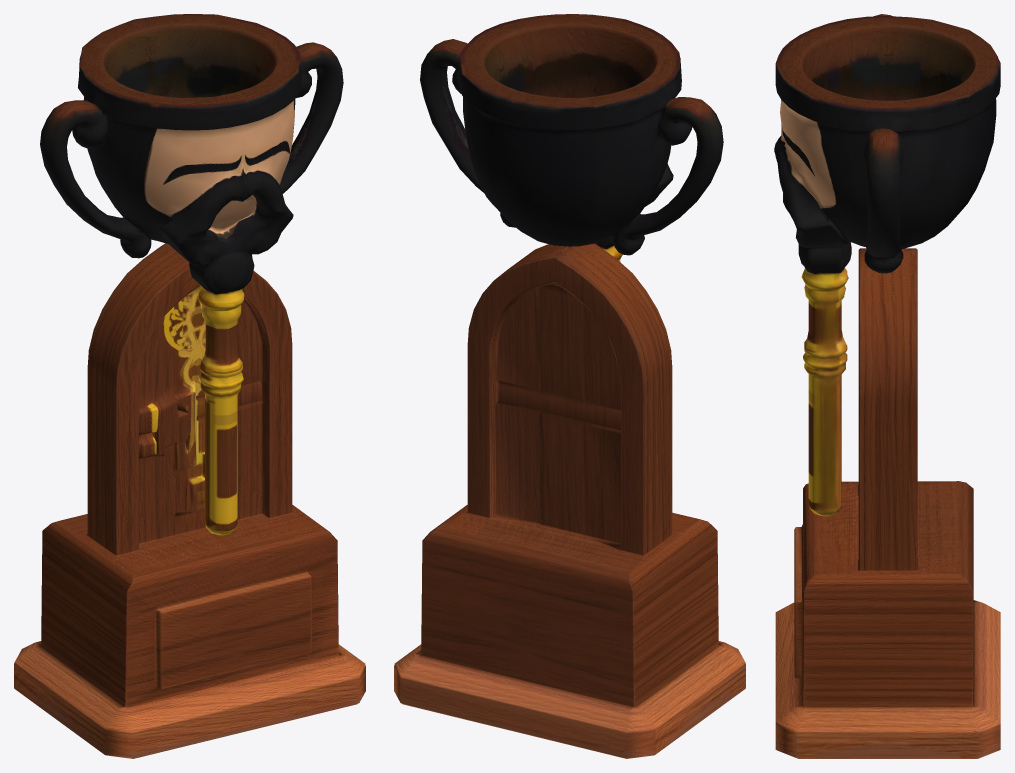
Rendered from award_landlord.glb.
3 views of the same model, side by side, from view 1: azimuth 30°, elevation 25°; view 2: azimuth 150°, elevation 25°; view 3: azimuth 270°, elevation 25° (orthographic).
Size of the model in its own units: 0.9432 by 1.91 by 0.6184.
Materials: 1 (1 with a texture image).
